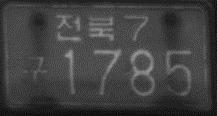1: (63, 48, 78, 98)
5: (164, 47, 194, 99)
7: (91, 47, 123, 98), (122, 12, 149, 42)
8: (129, 47, 157, 97)
구: (21, 53, 49, 89)
전북_O: (54, 12, 117, 43)
